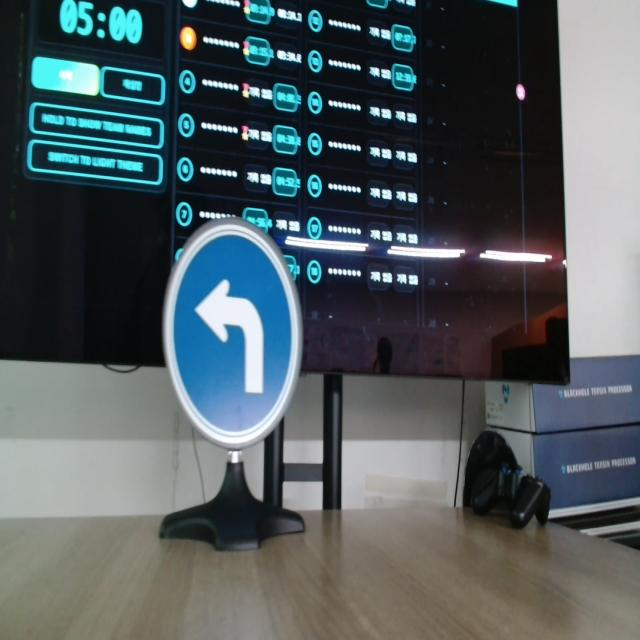left_direction: (159, 222, 308, 451)
